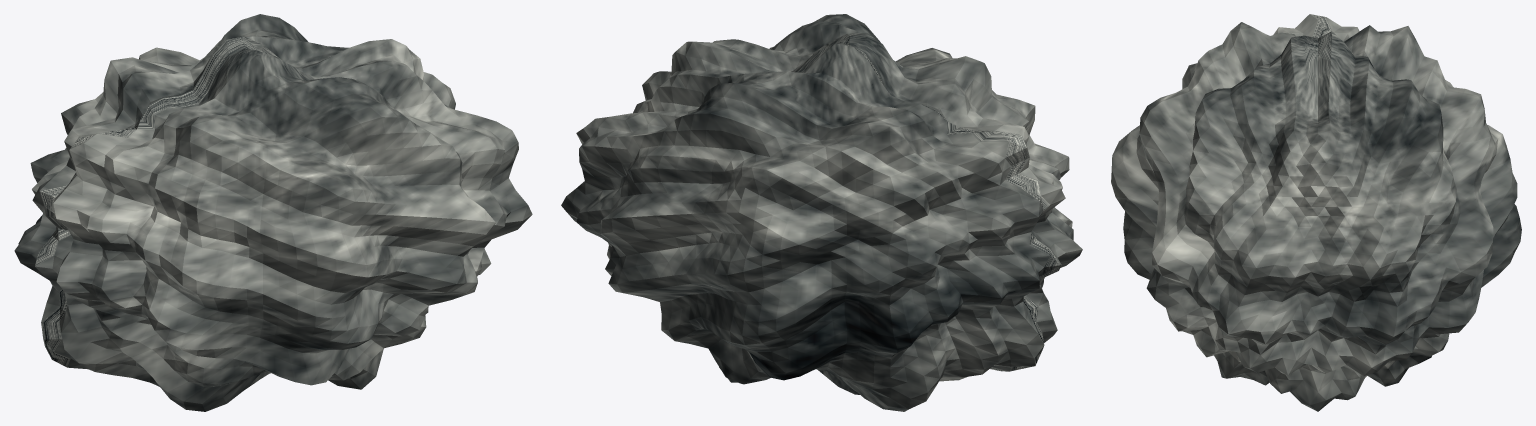
File: large_01.glb
3 views of the same model, side by side, from view 1: azimuth 30°, elevation 25°; view 2: azimuth 150°, elevation 25°; view 3: azimuth 270°, elevation 25° (orthographic). The views are drawn at different scales.
Visible parts, largest first — view 1: rock; view 2: rock; view 3: rock.
Boxes of the visible parts, <box> form: rock: <box>14,14,532,411</box>; rock: <box>561,14,1082,411</box>; rock: <box>1111,14,1521,411</box>.
Bounding box in the file's own units: 4.63 × 3.32 × 3.8.
Materials: 1 (1 with a texture image).
